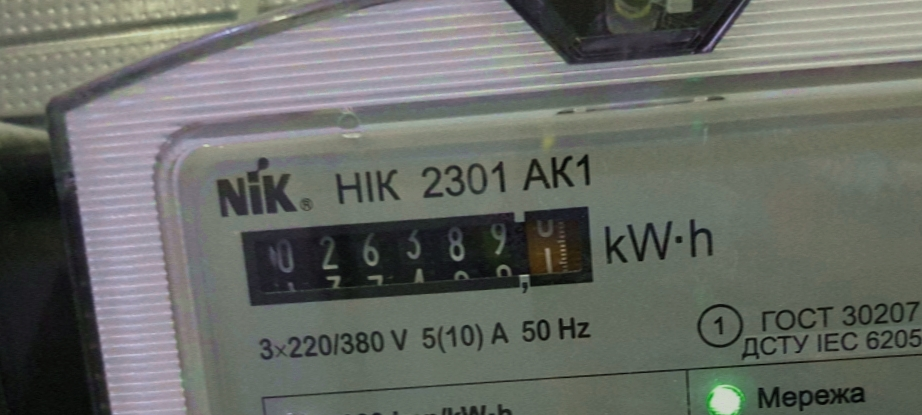0: (272, 234, 297, 275), (536, 216, 555, 238)
1: (541, 243, 556, 275)
2: (316, 231, 342, 271)
3: (403, 226, 422, 261)
6: (360, 228, 380, 268)
8: (446, 223, 468, 262)
9: (489, 220, 508, 255)
screen: (226, 193, 610, 318)
